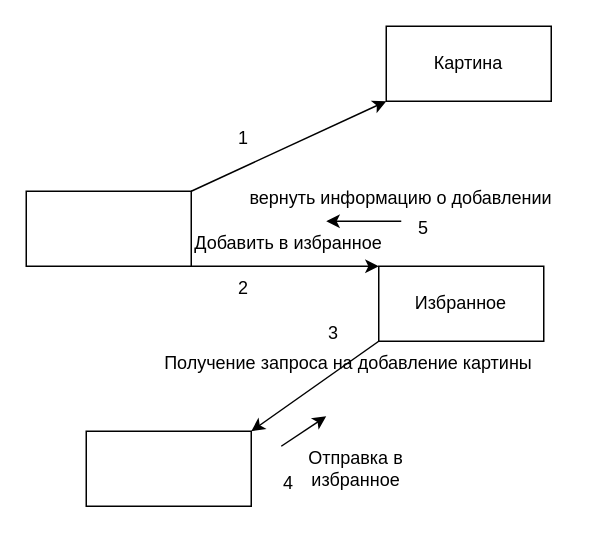
Image size: 593x533. Some labels were removed from this diagram. The shapes that lost their labels are listed below. From the top down, each one's box as (x1, y1, x2, y2) in pixels, then its label:
(25, 190, 191, 266): Пользователь
(85, 430, 251, 506): Система аукциона
